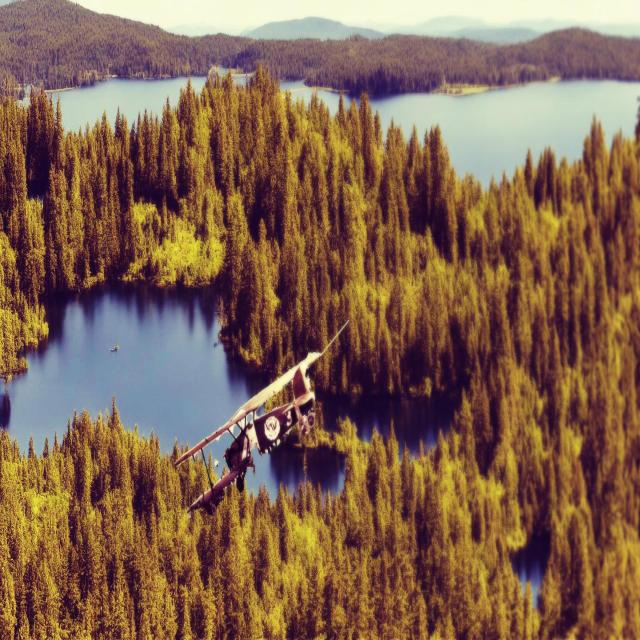airplane: (172, 318, 350, 517)
